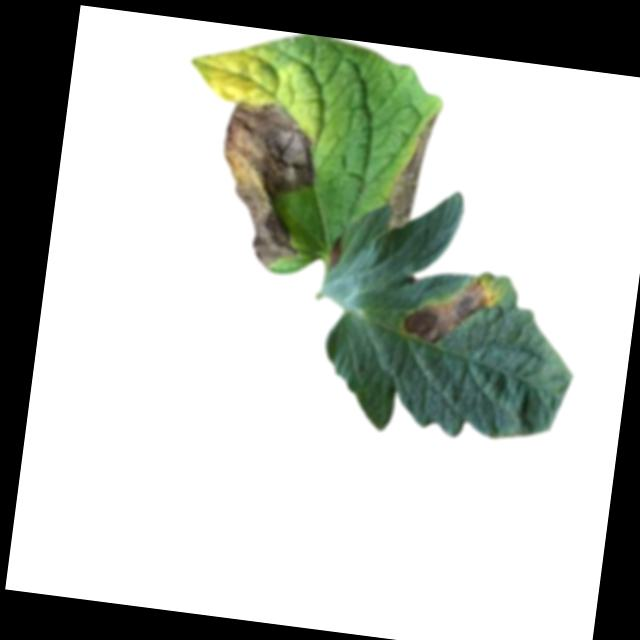Early_blight: (208, 96, 325, 275), (401, 266, 499, 352), (383, 109, 439, 235), (326, 235, 343, 270)
